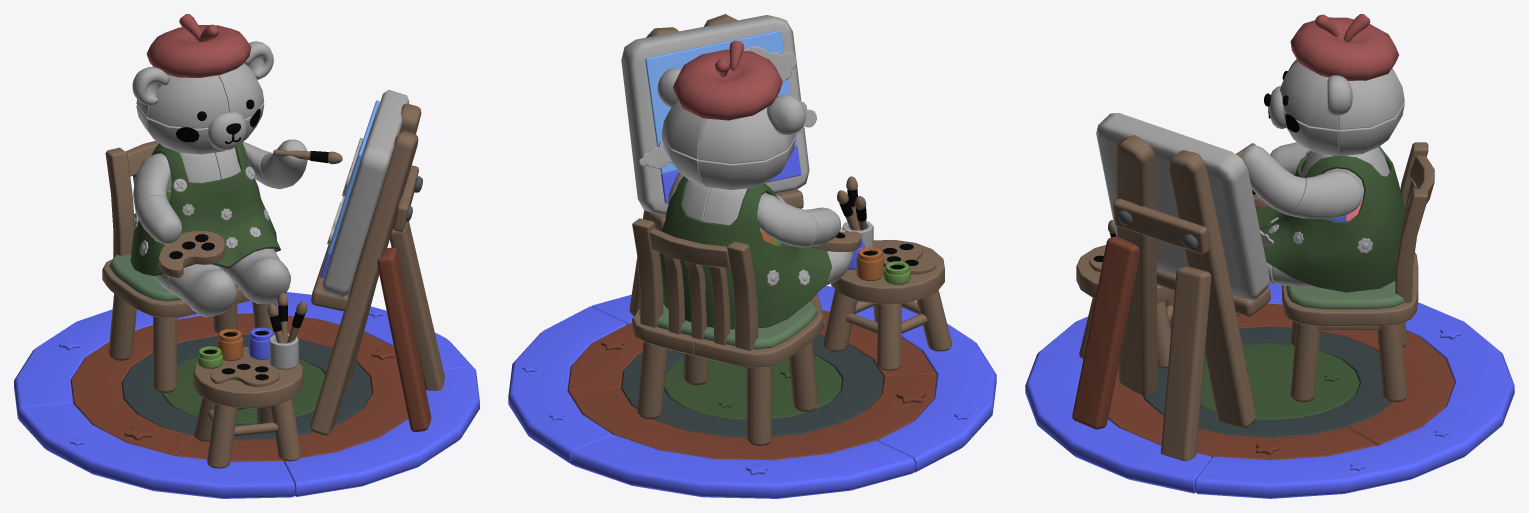
The model's file is BearArt.fbx.
3 views of the same model, side by side, from view 1: azimuth 30°, elevation 25°; view 2: azimuth 150°, elevation 25°; view 3: azimuth 270°, elevation 25° (orthographic). The views are drawn at different scales.
Parts seen in each view (by area): view 1: S_BearArt, M_BearArt, S_BearArt_; view 2: S_BearArt, M_BearArt, S_BearArt_; view 3: S_BearArt, M_BearArt.
Boxes of the visible parts, x1,y1,x2,y2 form: S_BearArt: (14,14,479,498); M_BearArt: (102,25,444,468); S_BearArt_: (132,67,169,105); S_BearArt: (508,30,996,498); M_BearArt: (621,14,952,445); S_BearArt_: (767,95,805,134); S_BearArt: (1025,14,1514,498); M_BearArt: (1072,17,1418,461).
Size of the model in its own units: 822 by 699 by 822.
